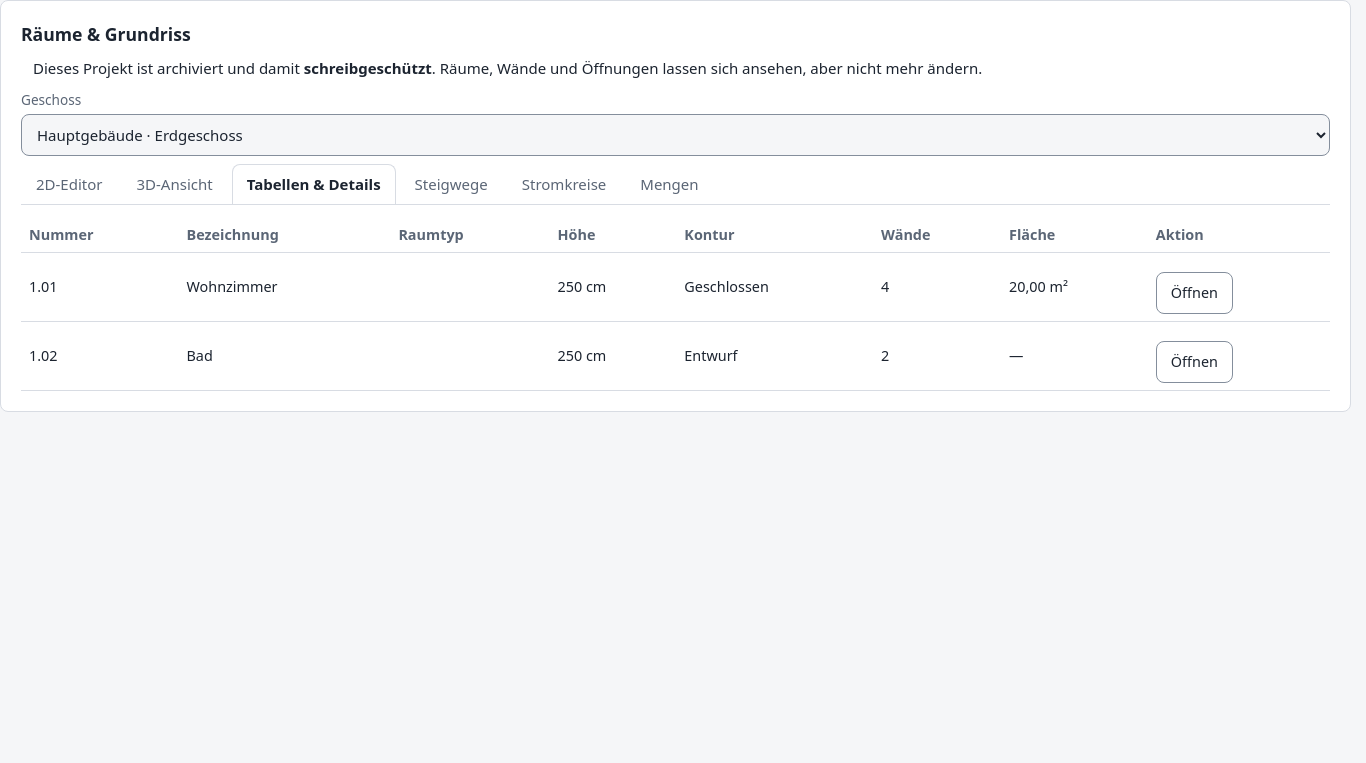
Test: Schreibschutz › archiviertes Projekt: lesbar, aber nicht bearbeitbar
Expected: the text "Wohnzimmer" is shown, left=178, top=253, right=390, bottom=322
Expected: the text "archiviert und damit" is shown, left=33, top=58, right=982, bottom=78
Click the button with aria-label "Raum Wohnzimmer öffnen". click: (1194, 293)
box: left=1156, top=272, right=1233, bottom=314
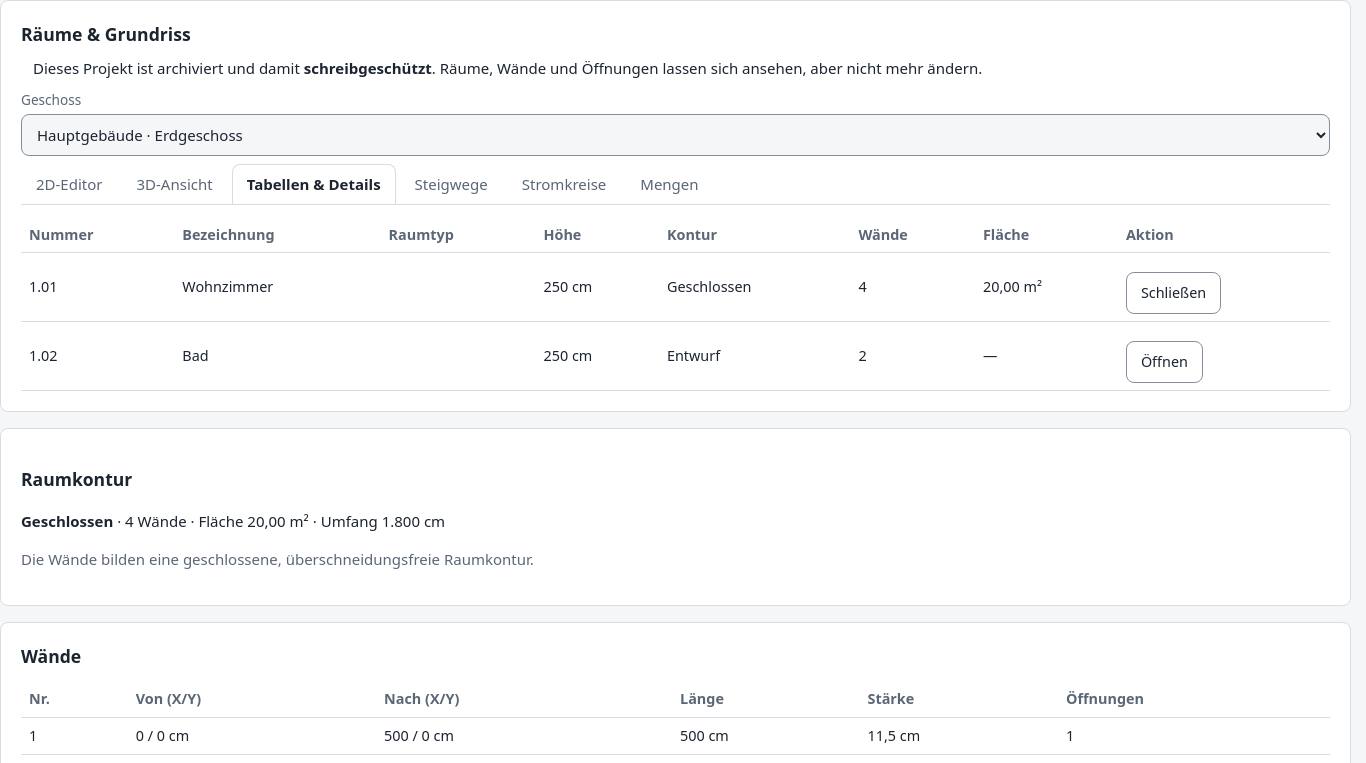
Expected: the heading "Raumkontur" is shown, left=21, top=467, right=132, bottom=491
